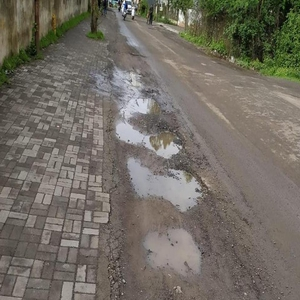pothole: (125, 158, 207, 209), (121, 123, 189, 154)
